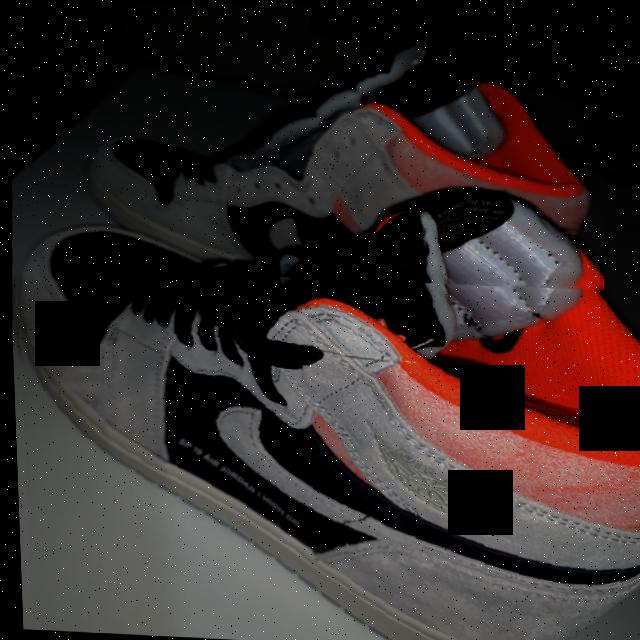shoe: (5, 174, 640, 640), (18, 8, 611, 293)
